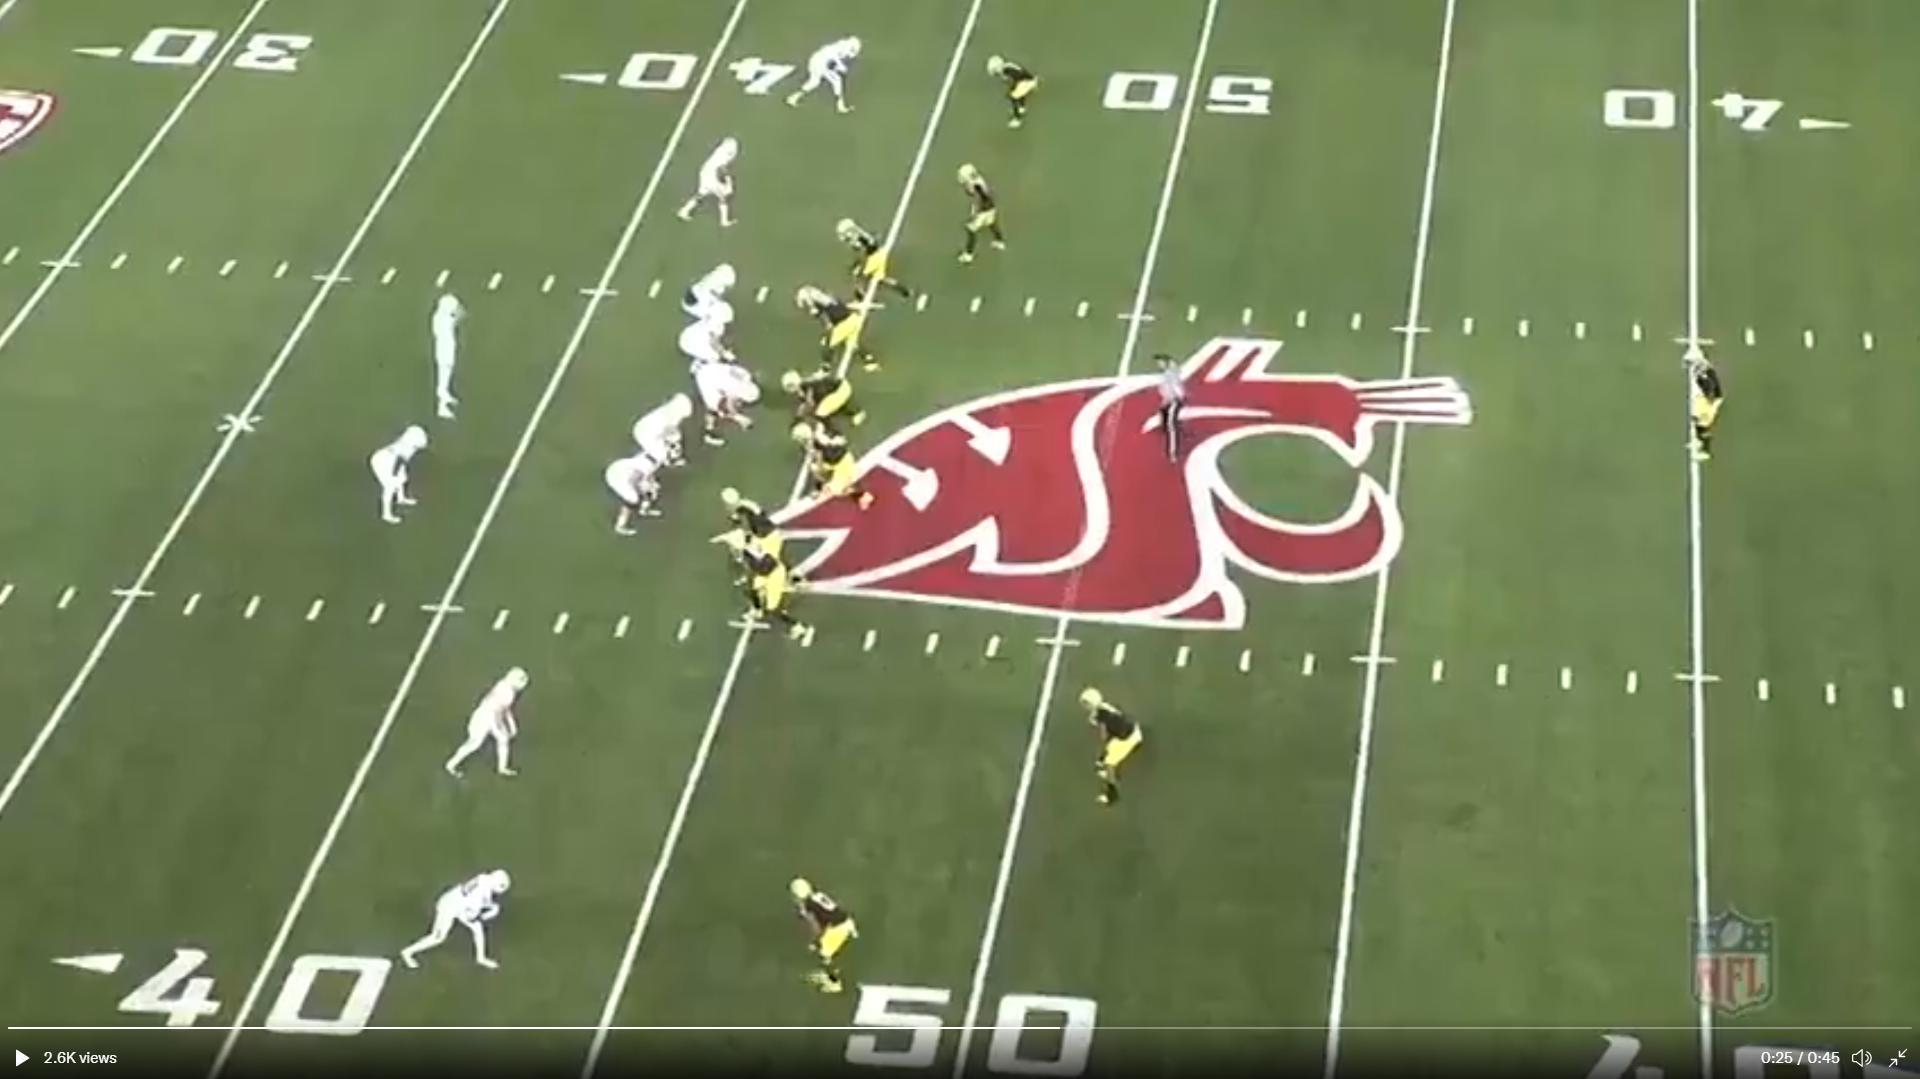defense: (717, 481, 811, 591), (733, 526, 816, 648), (1071, 682, 1146, 815), (793, 875, 865, 1001), (789, 417, 866, 529), (835, 216, 919, 317), (800, 285, 885, 384), (783, 367, 869, 452), (1677, 346, 1735, 471), (949, 157, 1009, 270), (989, 49, 1047, 135)
oline: (603, 446, 678, 541), (695, 360, 767, 452), (630, 394, 698, 462), (675, 306, 735, 379), (686, 259, 744, 317)
qb: (425, 286, 472, 425)
ref: (1133, 357, 1188, 462)
skill: (394, 863, 514, 976), (438, 663, 539, 789), (369, 422, 438, 533), (676, 132, 748, 237), (786, 32, 869, 119)
